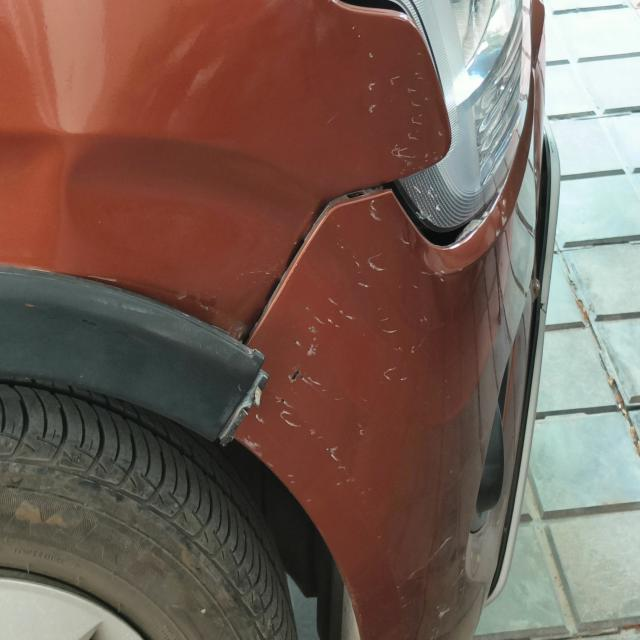scratch: (250, 212, 452, 493), (346, 21, 444, 178)
